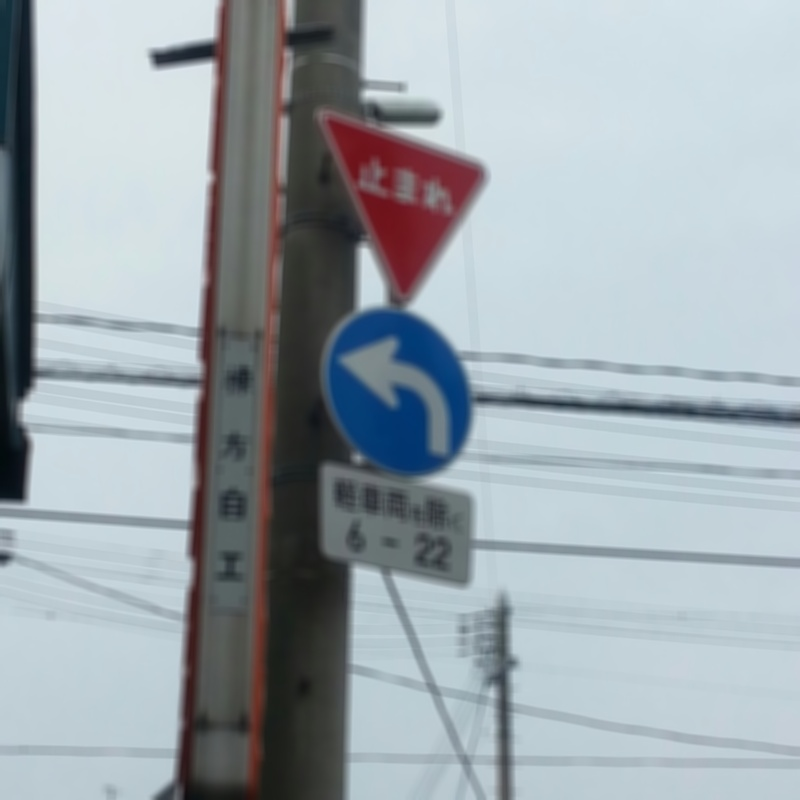Direction_sign: (308, 299, 482, 483)
